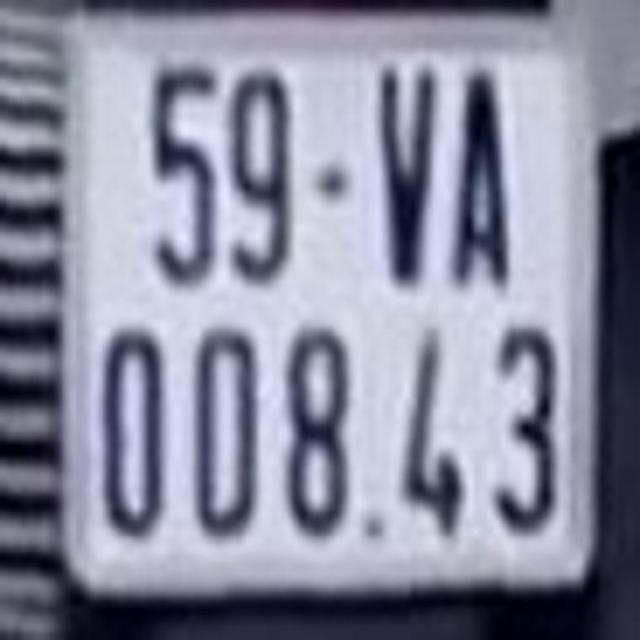0: (188, 324, 260, 534), (99, 328, 164, 536)
3: (490, 316, 561, 535)
4: (395, 324, 465, 540)
5: (143, 60, 220, 282)
8: (284, 323, 350, 535)
9: (225, 65, 298, 282)
A: (451, 62, 522, 292)
V: (368, 54, 442, 284)
